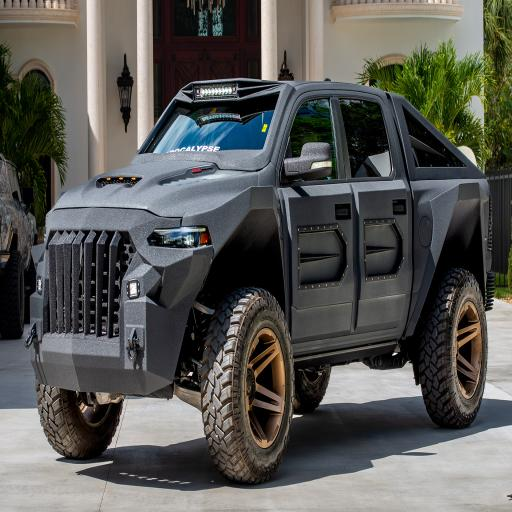suv: (31, 73, 495, 487)
truck: (0, 154, 37, 338)
